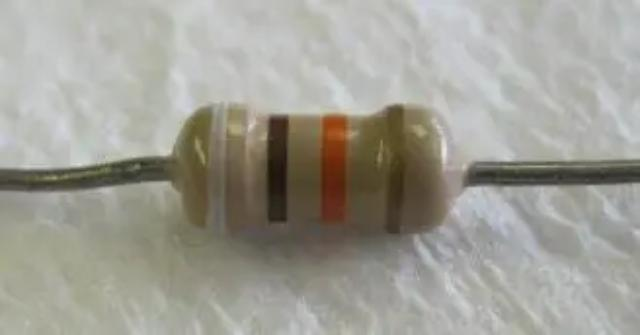black: (267, 114, 289, 224)
red: (323, 114, 348, 227)
resistor: (164, 102, 469, 243)
silver: (385, 105, 405, 237)
white: (206, 103, 228, 243)
